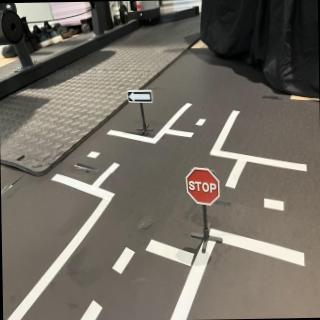sign_oneway_left: (127, 90, 155, 106)
sign_stop: (187, 168, 223, 209)
